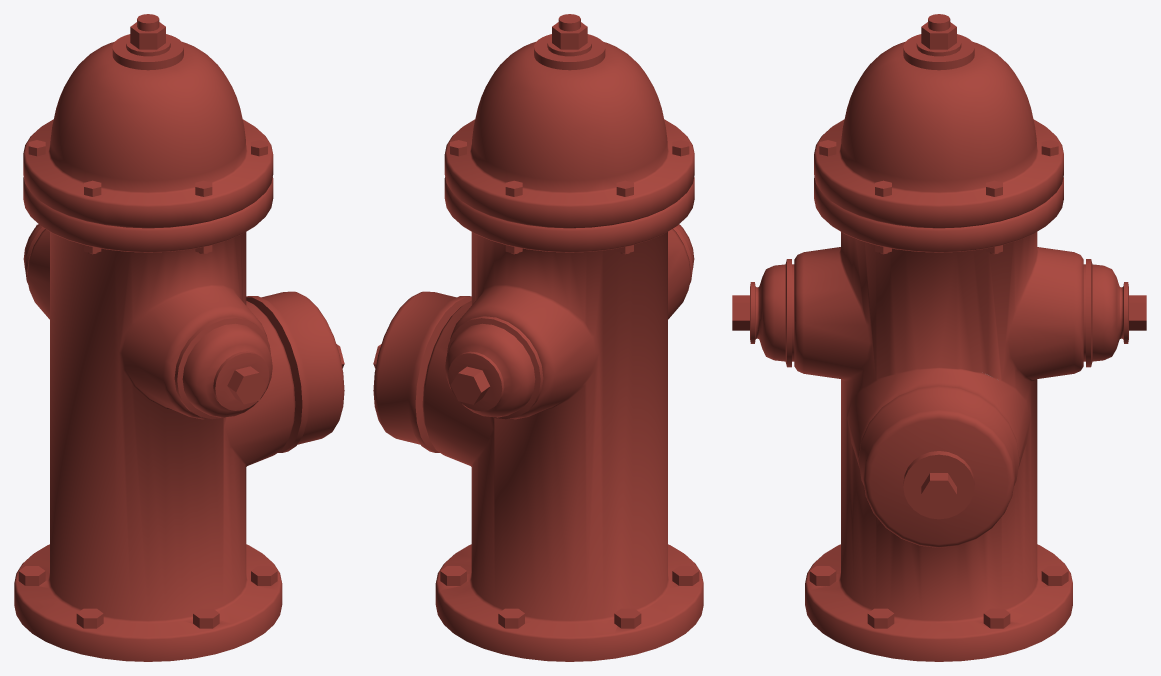
The model's file is Hydrant02.obj.
3 views of the same model, side by side, from view 1: azimuth 30°, elevation 25°; view 2: azimuth 150°, elevation 25°; view 3: azimuth 270°, elevation 25° (orthographic).
Parts seen in each view (by area): view 1: Mesh1 Model; view 2: Mesh1 Model; view 3: Mesh1 Model.
Part boxes in pixels (x1,y1,x2,y2): Mesh1 Model: (14,14,344,661); Mesh1 Model: (373,14,703,661); Mesh1 Model: (732,14,1146,661).
Size of the model in its own units: 0.3925 by 0.725 by 0.4643.
